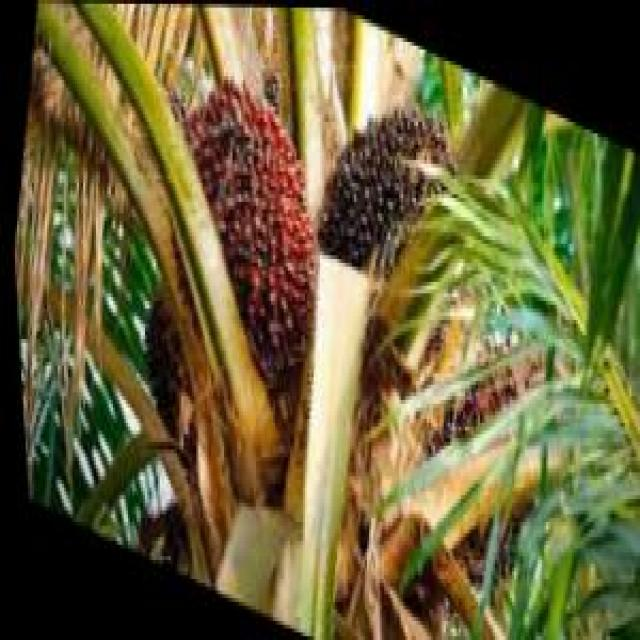Ripefruit: (137, 46, 339, 404)
